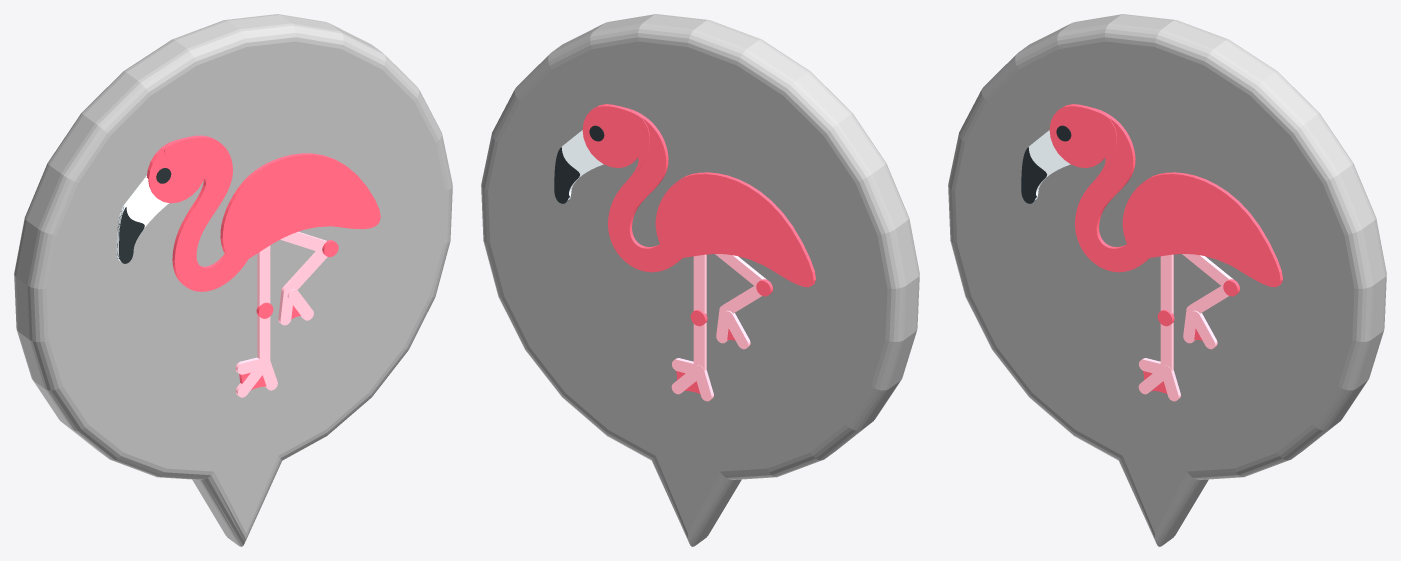
File: flamingo.glb
The picture shows the model from 3 angles, left to right: view 1: azimuth 30°, elevation 25°; view 2: azimuth 150°, elevation 25°; view 3: azimuth 330°, elevation 25°; orthographic projection.
Parts seen in each view (by area): view 1: EmotionBubble; view 2: EmotionBubble; view 3: EmotionBubble.
Boxes of the visible parts, box(x1,y1,x2,y2) form: EmotionBubble: box(14, 14, 452, 546); EmotionBubble: box(481, 14, 919, 546); EmotionBubble: box(948, 14, 1386, 546).
Size of the model in its own units: 5.29 by 6.16 by 0.76.
